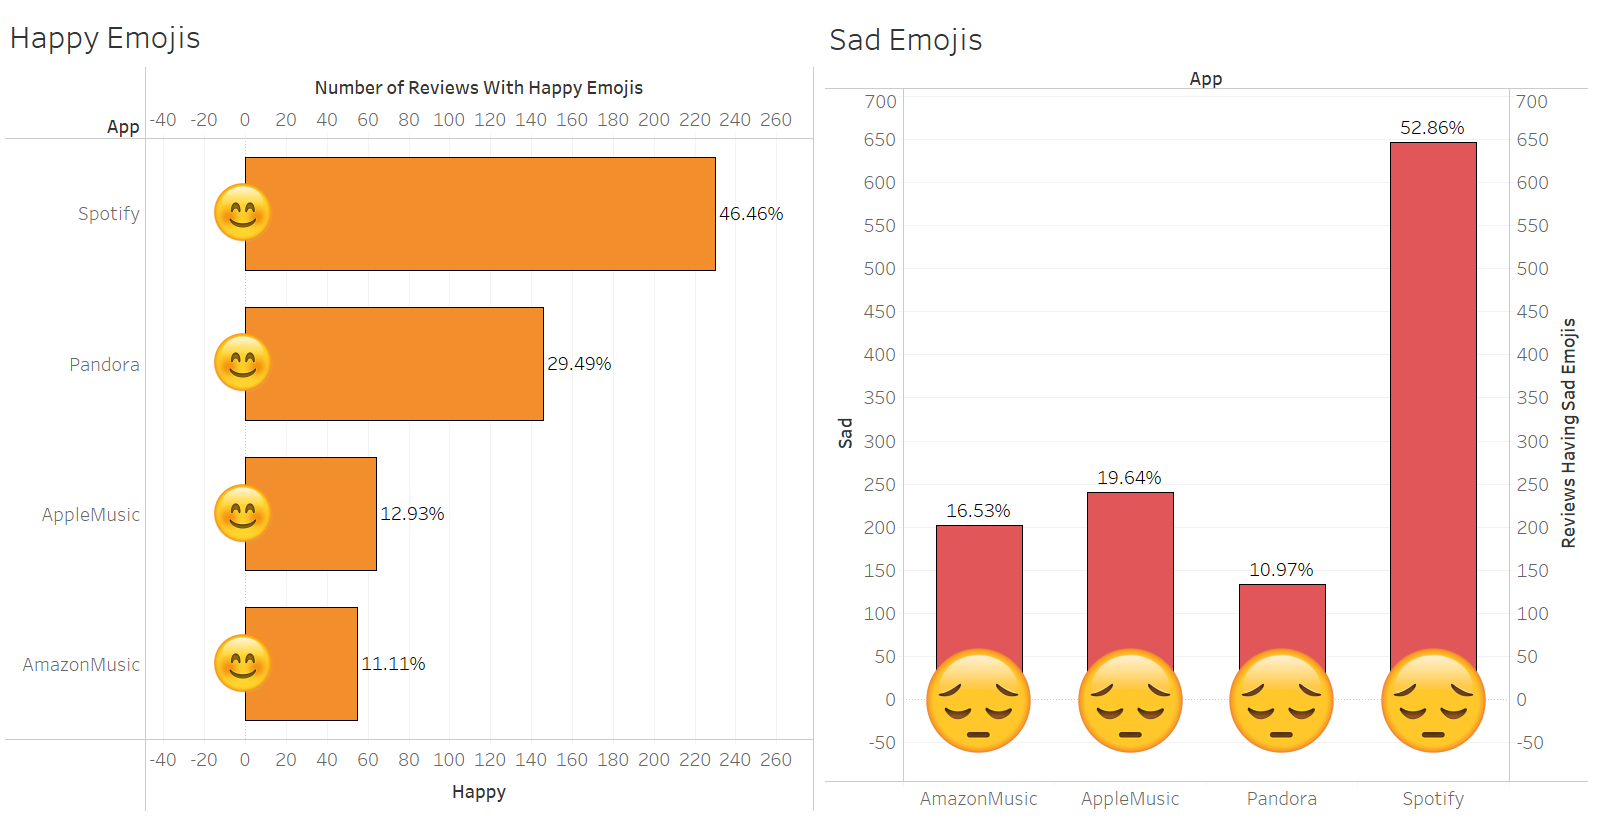

What the dashboard file says about the page in this screenshot:
{"tool":"tableau","page":{"name":"Dashboard 3","canvas":[1000,1000],"units":"permille","ordinal":2},"visuals":[{"type":"worksheet","title":"Happy Emojis","mark":"Automatic","rows":["App"],"cols":["Happy","Calculation_1573726647029268490"],"box":[3.1,11,504.4,980.4]},{"type":"worksheet","title":"Sad Emojis","mark":"Automatic","rows":["Sad","Calculation_1573726647031988237"],"cols":["App"],"box":[514.3,13.5,475.7,978]}]}

Visuals, with their boxes on the dashboard's canvas, which has no fixed pixel size, in thousandths of its width and height (x1, y1, x2, y2). These are canvas units, not pixel positions in the 1604x818 screenshot, which may show the page scaled, cropped or inside an application window:
"Happy Emojis" worksheet: [left=3, top=11, right=508, bottom=991]
"Sad Emojis" worksheet: [left=514, top=14, right=990, bottom=992]
